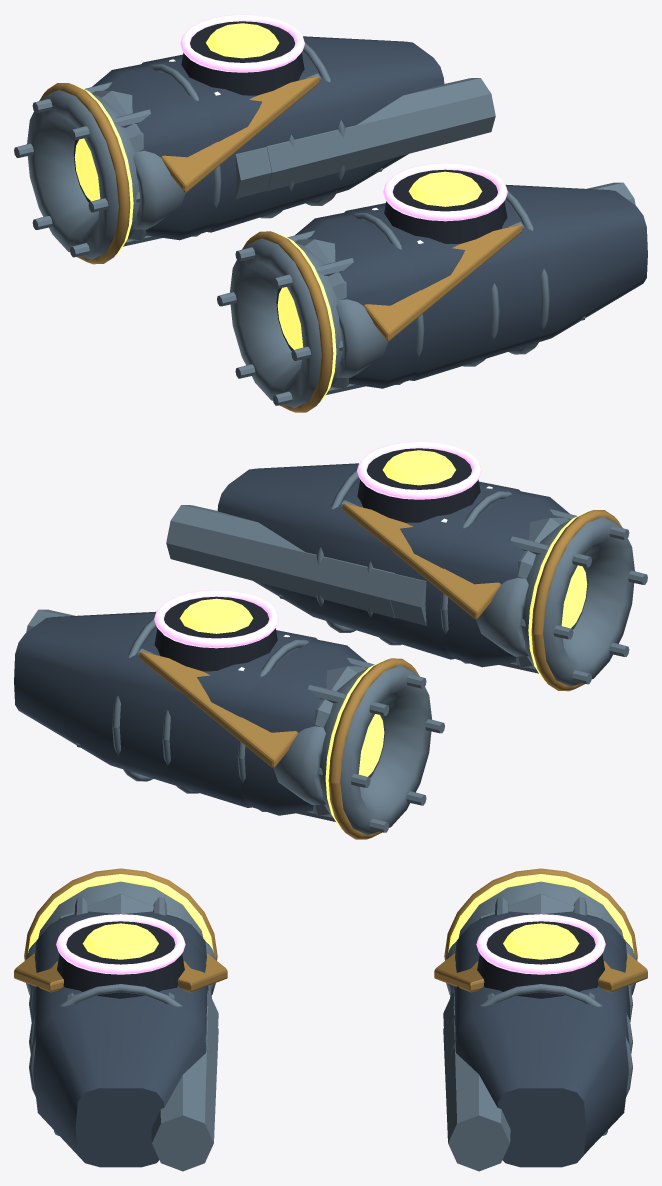
File: engine.glb
3 views of the same model, one above another, from view 1: azimuth 30°, elevation 25°; view 2: azimuth 150°, elevation 25°; view 3: azimuth 270°, elevation 25° (orthographic). The views are drawn at different scales.
Parts seen in each view (by area): view 1: e_twin Fitting gunmetal, e_nova Brushed fitting edges, e_twin Brushed fitting edges, e_nova Fitting gunmetal, e_nova Champagne gold edging, e_fusion Machined graphite, e_fusion e_fusion emitter, e_fusion Fusion amber core, e_ion Brushed fitting edges, e_nova e_nova emitter, e_fusion Brushed fitting edges; view 2: e_twin Fitting gunmetal, e_nova Brushed fitting edges, e_twin Brushed fitting edges, e_nova Fitting gunmetal, e_nova Champagne gold edging, e_fusion Machined graphite, e_fusion e_fusion emitter, e_fusion Fusion amber core, e_ion Brushed fitting edges, e_nova e_nova emitter, e_fusion Brushed fitting edges; view 3: e_twin Fitting gunmetal, e_twin Brushed fitting edges, e_fusion Machined graphite, e_nova Champagne gold edging, e_nova Brushed fitting edges, e_fusion e_fusion emitter, e_fusion Fusion amber core, e_nova e_nova emitter, e_nova Fitting gunmetal, e_ion Brushed fitting edges, e_fusion Brushed fitting edges.
Part boxes in pixels (left/top/right/bottom): e_twin Fitting gunmetal: left=141, top=36, right=647, bottom=380; e_nova Brushed fitting edges: left=14, top=82, right=364, bottom=407; e_twin Brushed fitting edges: left=133, top=73, right=635, bottom=377; e_nova Fitting gunmetal: left=73, top=64, right=420, bottom=388; e_nova Champagne gold edging: left=39, top=76, right=522, bottom=412; e_fusion Machined graphite: left=181, top=21, right=507, bottom=243; e_fusion e_fusion emitter: left=180, top=14, right=507, bottom=221; e_fusion Fusion amber core: left=206, top=23, right=482, bottom=206; e_ion Brushed fitting edges: left=150, top=42, right=549, bottom=384; e_nova e_nova emitter: left=74, top=84, right=336, bottom=402; e_fusion Brushed fitting edges: left=92, top=90, right=585, bottom=389; e_twin Fitting gunmetal: left=14, top=463, right=520, bottom=807; e_nova Brushed fitting edges: left=297, top=509, right=647, bottom=834; e_twin Brushed fitting edges: left=26, top=500, right=528, bottom=804; e_nova Fitting gunmetal: left=241, top=491, right=588, bottom=815; e_nova Champagne gold edging: left=139, top=503, right=622, bottom=839; e_fusion Machined graphite: left=154, top=448, right=480, bottom=671; e_fusion e_fusion emitter: left=154, top=441, right=481, bottom=648; e_fusion Fusion amber core: left=179, top=450, right=455, bottom=633; e_ion Brushed fitting edges: left=112, top=469, right=511, bottom=811; e_nova e_nova emitter: left=325, top=511, right=587, bottom=829; e_fusion Brushed fitting edges: left=76, top=517, right=569, bottom=816; e_twin Fitting gunmetal: left=31, top=938, right=630, bottom=1167; e_twin Brushed fitting edges: left=26, top=942, right=635, bottom=1171; e_fusion Machined graphite: left=57, top=921, right=604, bottom=998; e_nova Champagne gold edging: left=14, top=868, right=647, bottom=992; e_nova Brushed fitting edges: left=38, top=881, right=623, bottom=1026; e_fusion e_fusion emitter: left=56, top=914, right=605, bottom=974; e_fusion Fusion amber core: left=82, top=923, right=579, bottom=959; e_nova e_nova emitter: left=28, top=874, right=633, bottom=952; e_nova Fitting gunmetal: left=34, top=911, right=627, bottom=962; e_ion Brushed fitting edges: left=29, top=984, right=632, bottom=1096; e_fusion Brushed fitting edges: left=54, top=894, right=607, bottom=1135.
Size of the model in its own units: 15.81 by 6.96 by 21.12.
